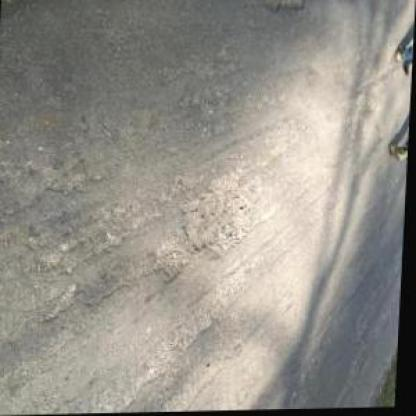pothole: (183, 170, 254, 260), (157, 242, 191, 284)
